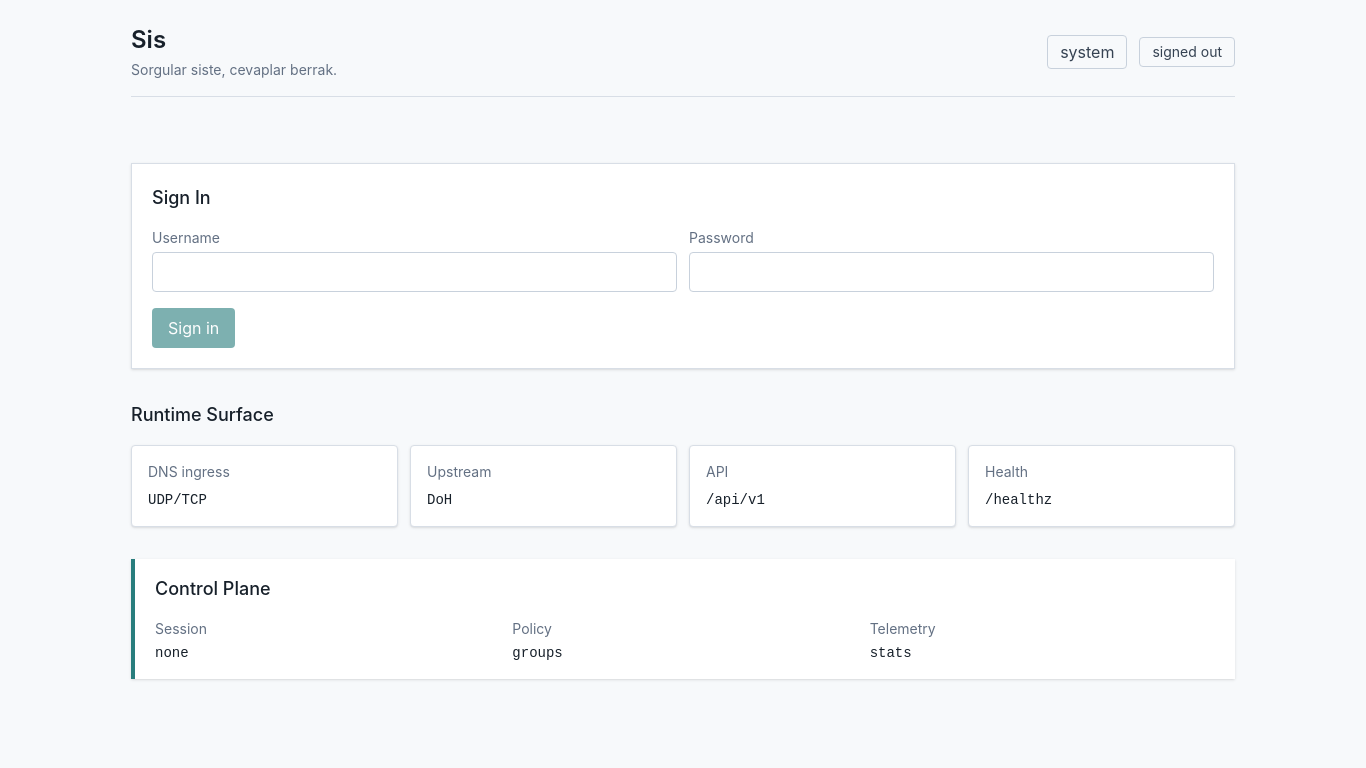
App › shows login errors when authentication fails
Check: the heading "Sign In" is shown, box [152, 186, 211, 208]
Type "alice" into the field labelled "Username" at (414, 272), box [152, 252, 677, 292]
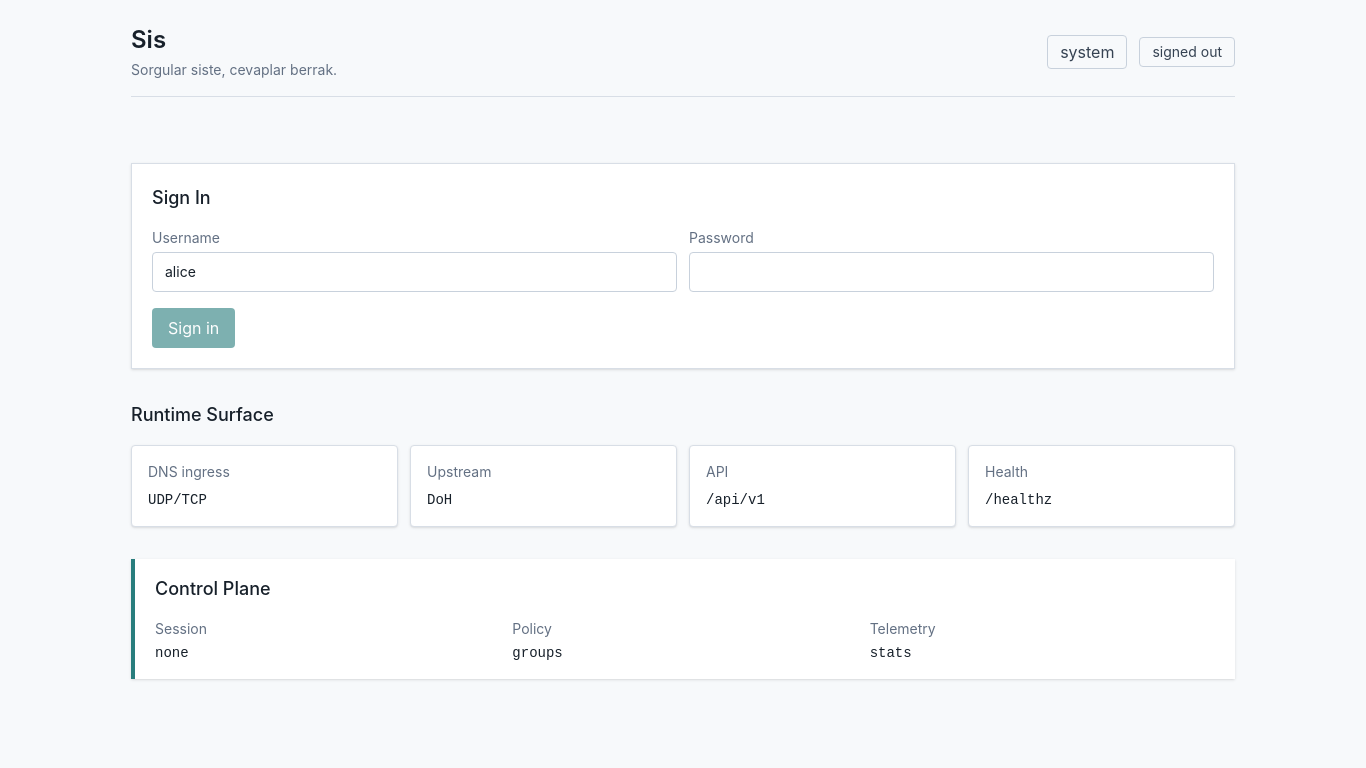
Type "badpassword" into the password field labelled "Password" at (952, 272), box [689, 252, 1214, 292]
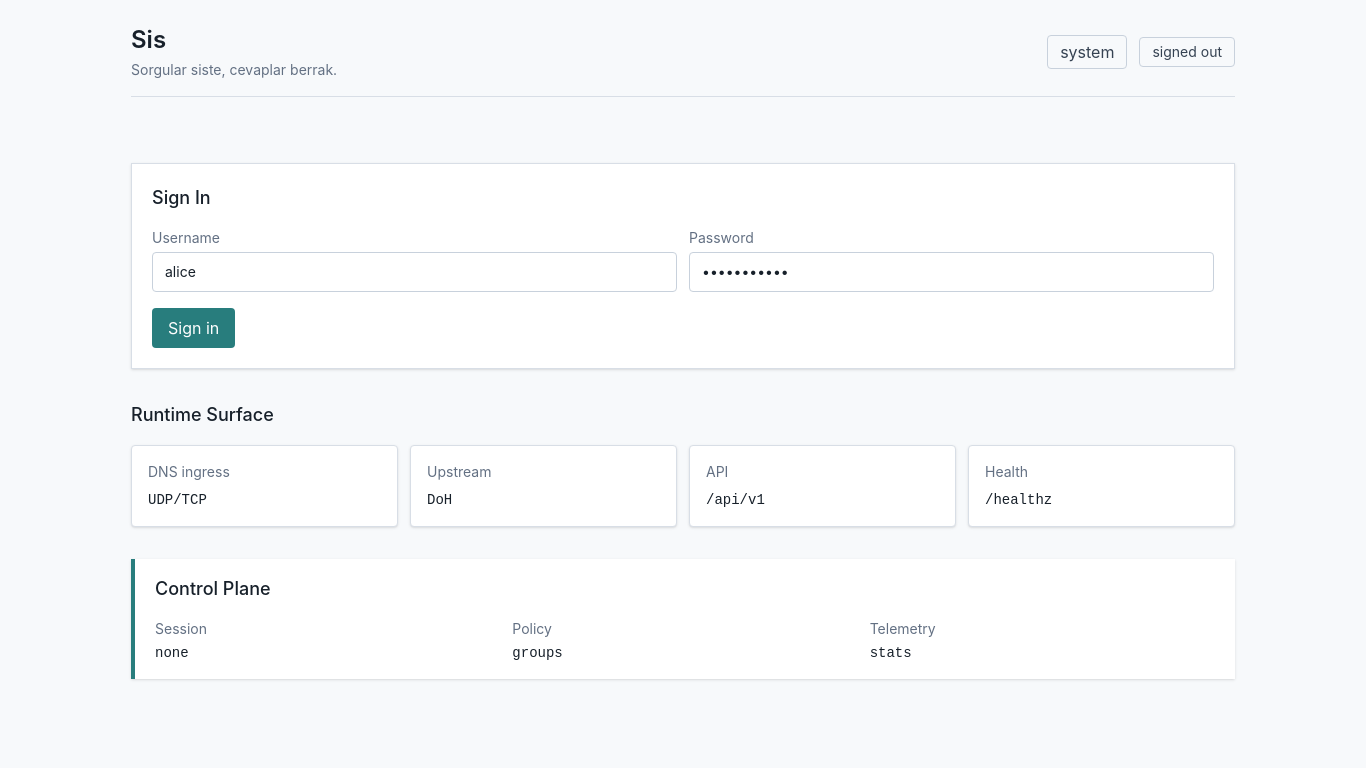
Click the button "Sign in" at (194, 328), box [152, 308, 235, 348]
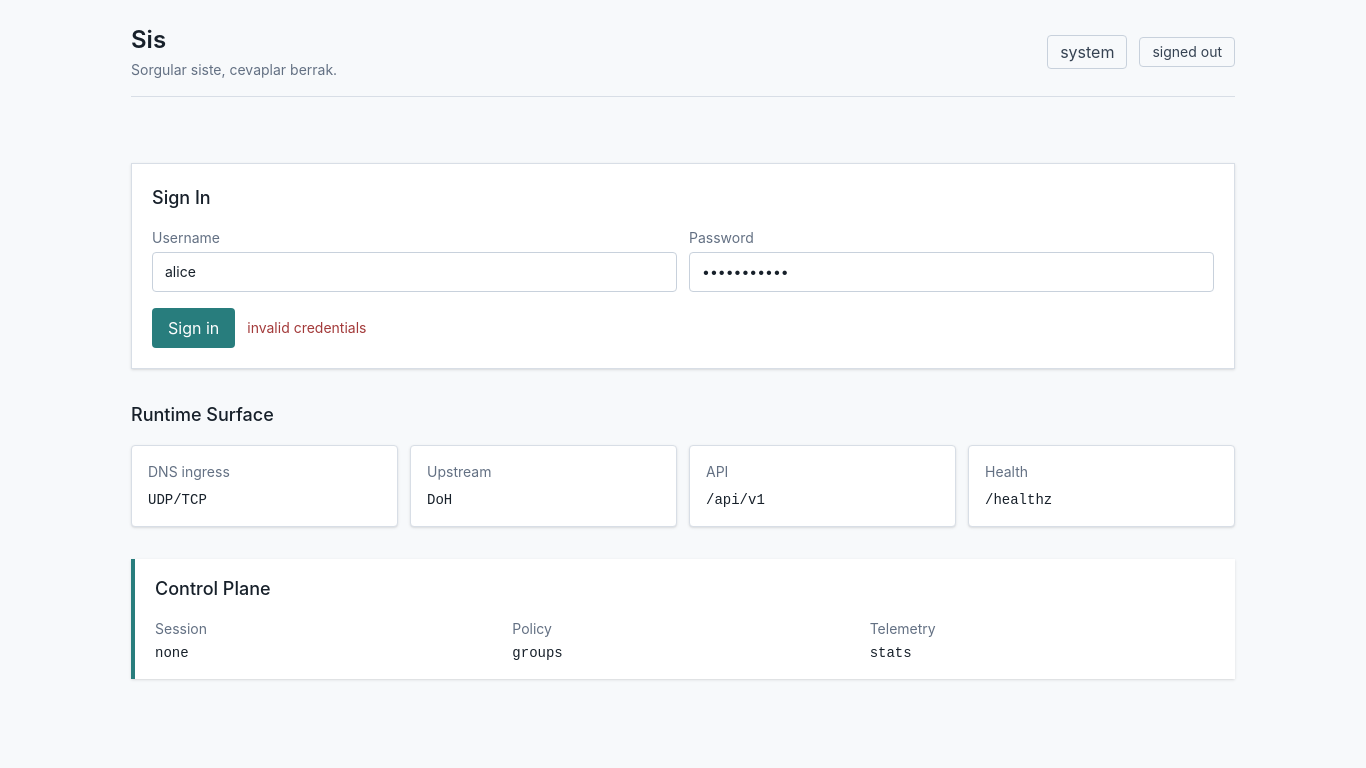
Check: the text "invalid credentials" is shown, box [247, 318, 366, 338]
